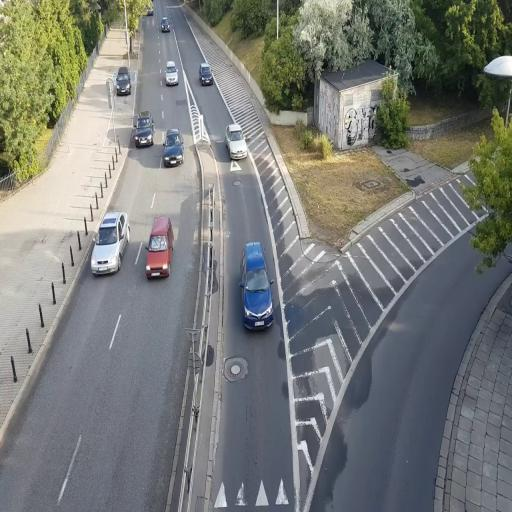vehicle: (240, 240, 274, 332), (91, 210, 130, 275), (144, 217, 172, 279), (162, 128, 184, 168), (226, 122, 246, 160), (134, 112, 154, 148), (114, 68, 132, 96), (165, 60, 179, 86), (198, 63, 213, 85), (160, 17, 170, 33)
